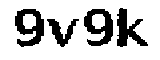9: (11, 6, 44, 52), (81, 6, 114, 51)
k: (115, 2, 151, 52)
v: (45, 17, 78, 48)
